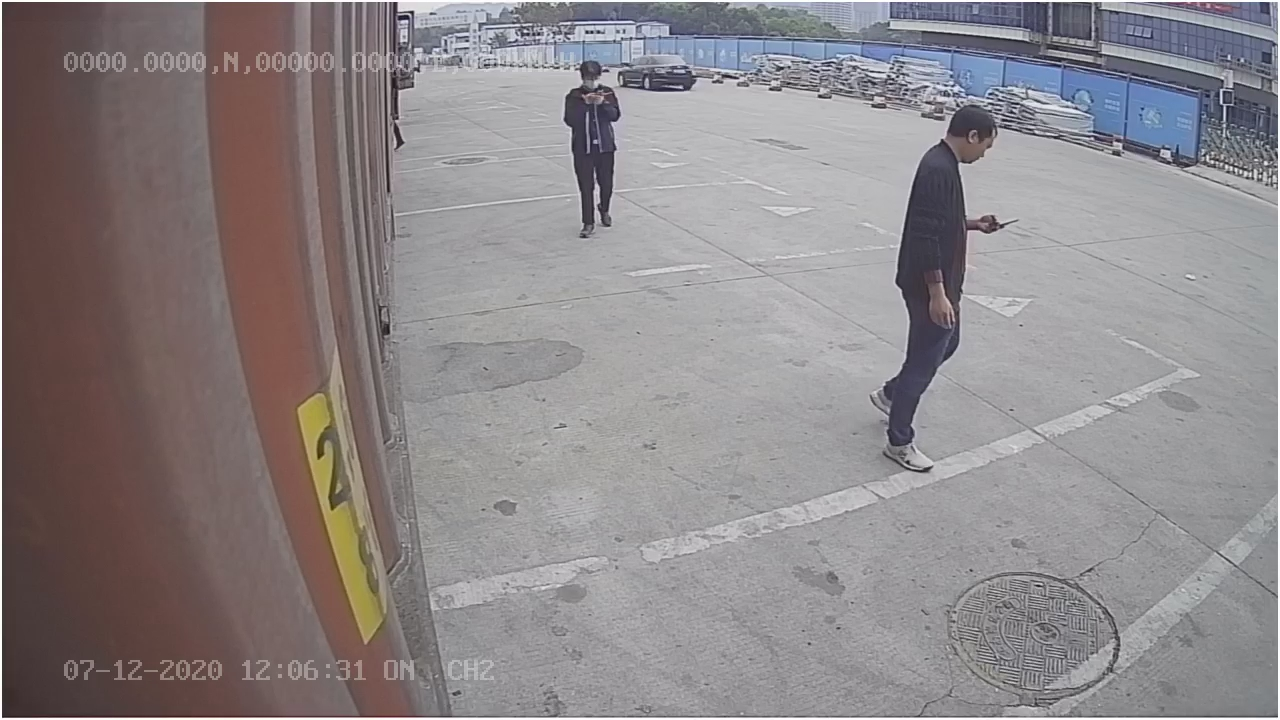person: (863, 100, 1007, 473)
